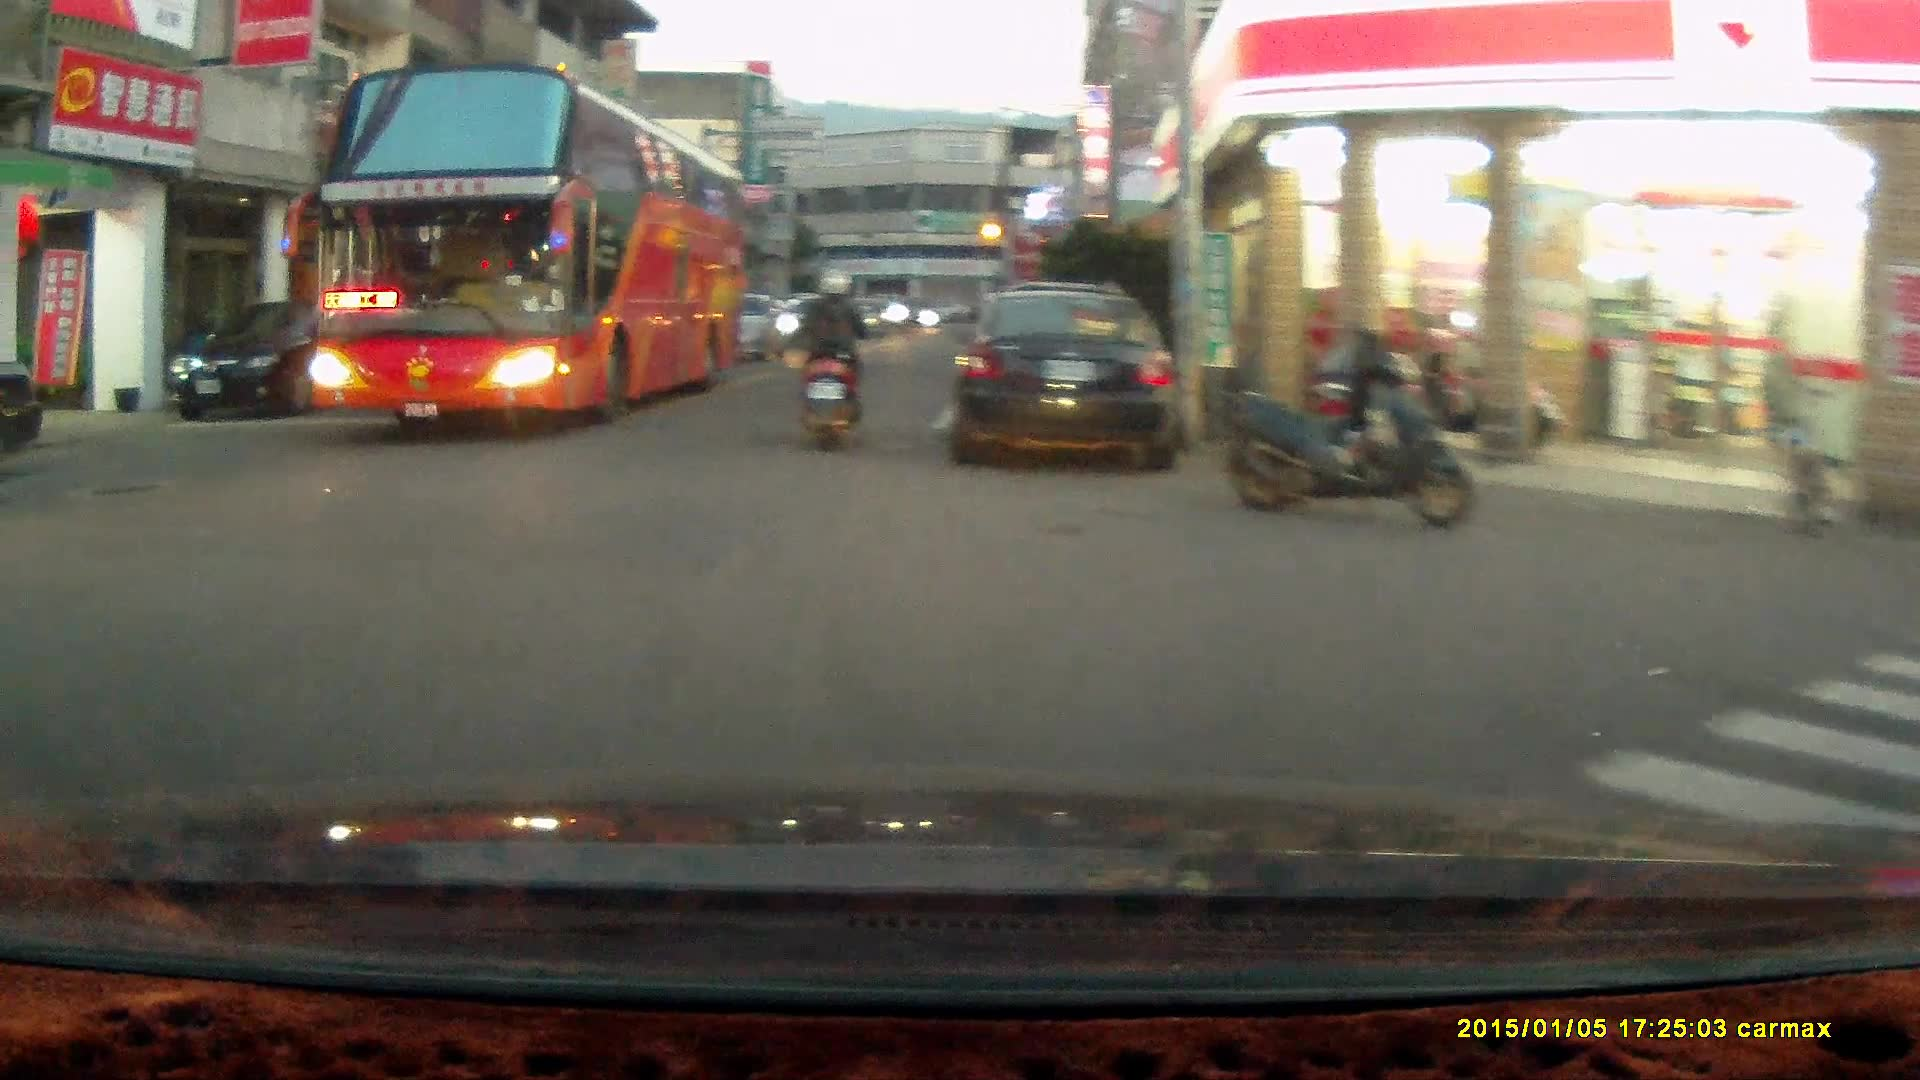rider: (786, 264, 868, 451)
vehicle: (304, 66, 756, 433), (947, 284, 1191, 470), (172, 304, 374, 418)
